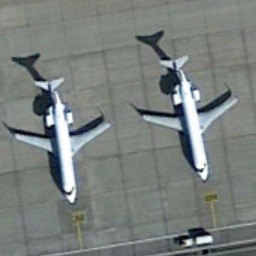Airplane: (132, 48, 248, 191), (3, 72, 118, 213)
